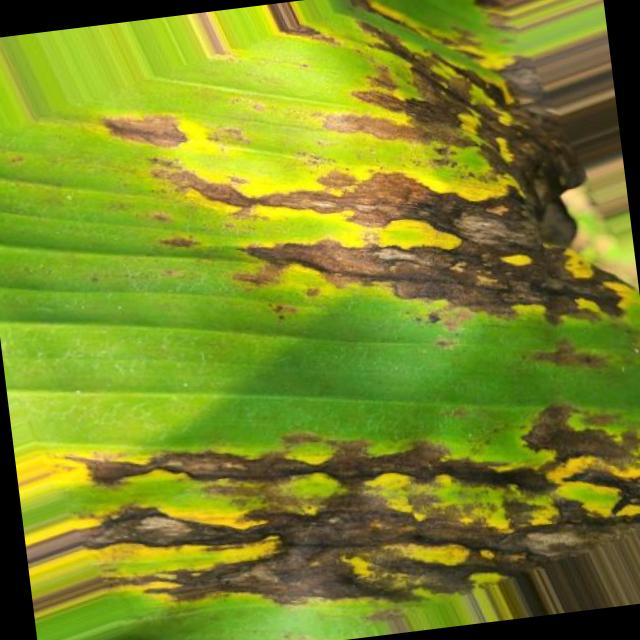Banana_Black_Sigatoka: (111, 0, 640, 374), (96, 354, 640, 640)
